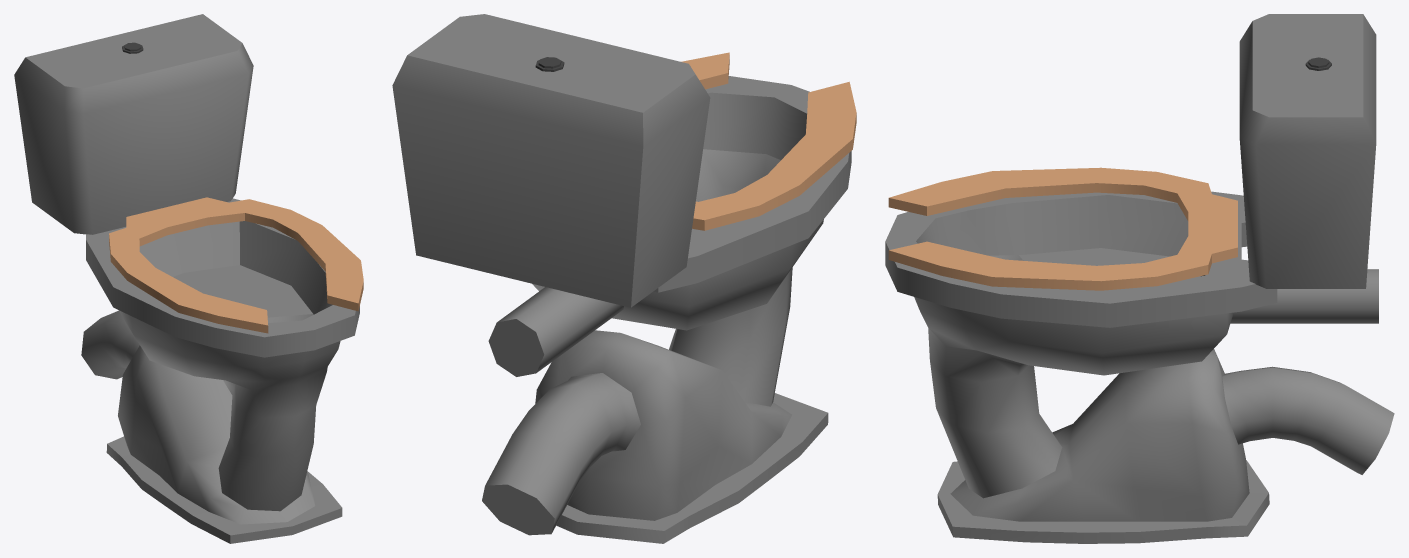
Rendered from Unitaz.FBX.
3 views of the same model, side by side, from view 1: azimuth 30°, elevation 25°; view 2: azimuth 150°, elevation 25°; view 3: azimuth 270°, elevation 25° (orthographic). The views are drawn at different scales.
Parts seen in each view (by area): view 1: Bathroom_Unitaz_01; view 2: Bathroom_Unitaz_01; view 3: Bathroom_Unitaz_01.
Boxes of the visible parts, x1,y1,x2,y2 form: Bathroom_Unitaz_01: (14, 14, 363, 543); Bathroom_Unitaz_01: (392, 14, 856, 543); Bathroom_Unitaz_01: (885, 14, 1394, 543).
Bounding box in the file's own units: 103 × 170 × 177.
